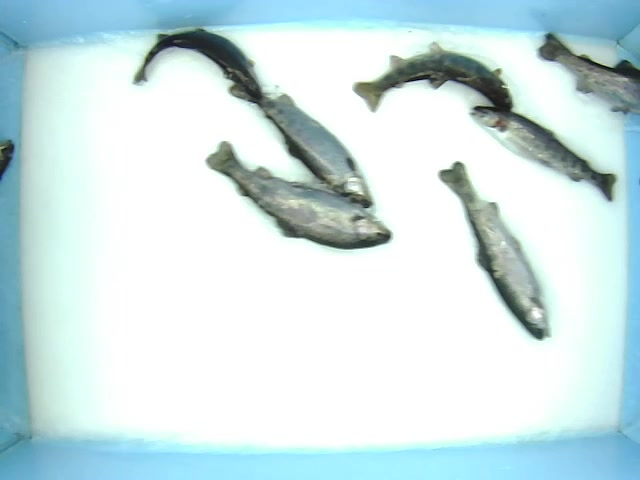fish: (434, 157, 554, 343), (201, 138, 397, 249), (229, 79, 376, 208), (470, 104, 619, 204), (352, 41, 524, 113), (130, 25, 264, 98)
